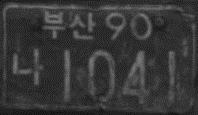0: (87, 48, 115, 103), (130, 11, 153, 40)
1: (163, 51, 181, 106), (57, 49, 74, 100)
4: (123, 49, 153, 105)
9: (104, 11, 126, 39)
나: (10, 48, 43, 86)
부산_O: (42, 9, 96, 41)
